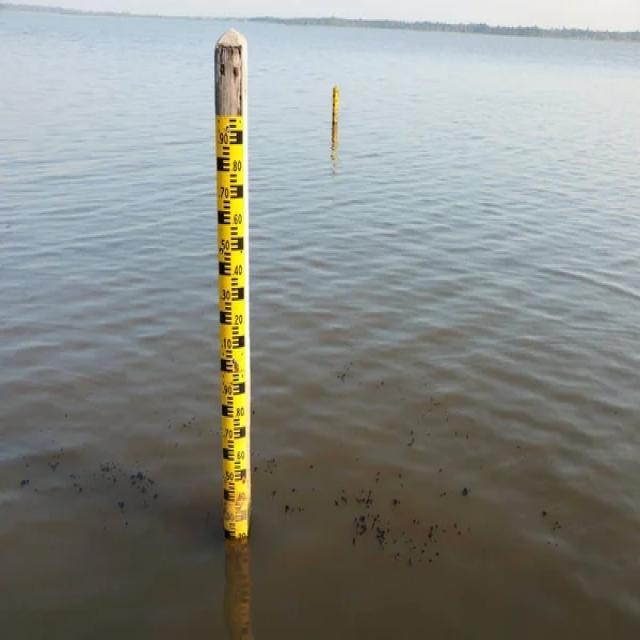ruler: (208, 101, 262, 554)
value: (216, 128, 231, 148), (219, 281, 232, 304), (218, 183, 232, 204), (218, 232, 230, 256), (220, 378, 234, 398), (230, 310, 246, 327), (219, 333, 233, 352), (230, 260, 244, 278), (234, 402, 247, 420), (235, 446, 248, 464), (230, 210, 244, 226), (231, 157, 244, 174), (222, 423, 234, 441), (223, 467, 235, 484)
